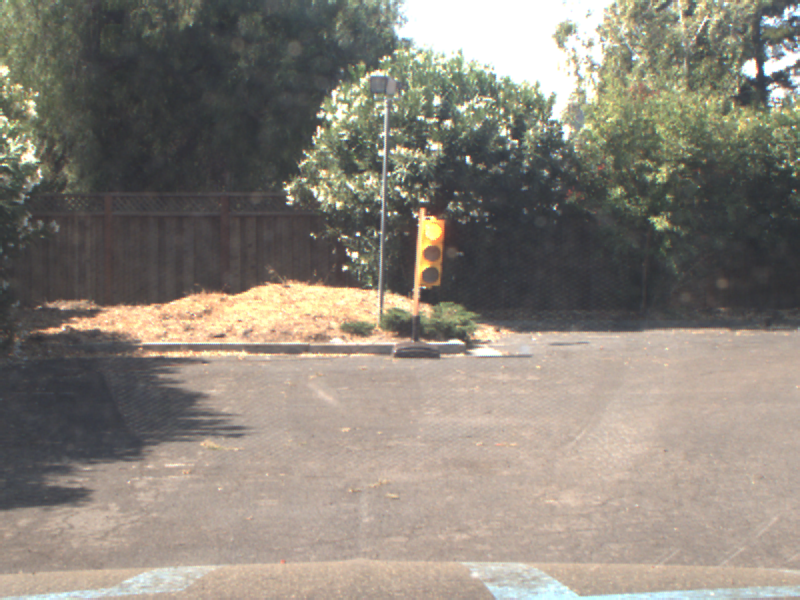red: (416, 209, 443, 290)
